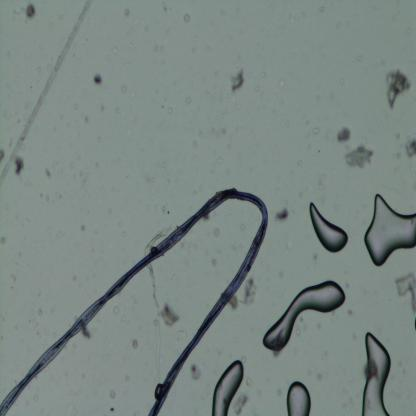Air bubble: (262, 280, 346, 354), (362, 193, 416, 268), (362, 330, 393, 416), (308, 200, 350, 254), (212, 361, 245, 416), (286, 379, 312, 416)
Background material: (0, 0, 95, 188), (395, 272, 416, 328), (382, 69, 412, 108), (346, 146, 376, 170), (160, 301, 180, 325), (341, 388, 357, 414), (274, 205, 291, 226), (231, 70, 247, 92), (404, 130, 416, 159), (244, 280, 257, 306), (336, 126, 352, 144), (294, 315, 306, 336), (214, 124, 228, 142), (14, 157, 26, 176), (188, 364, 202, 380), (388, 6, 400, 24), (82, 168, 93, 186), (25, 5, 36, 21), (108, 385, 117, 404), (312, 370, 324, 384), (212, 155, 224, 169), (272, 384, 284, 398), (40, 167, 52, 179), (12, 6, 21, 22), (210, 226, 222, 238), (120, 368, 130, 382), (231, 295, 240, 309), (208, 257, 219, 268), (66, 157, 76, 169), (190, 136, 200, 148), (310, 124, 320, 135), (154, 44, 165, 54), (94, 74, 104, 85), (126, 90, 137, 100), (278, 77, 287, 89), (120, 8, 130, 18), (355, 53, 365, 63), (130, 339, 139, 350), (183, 95, 192, 106), (160, 158, 168, 170), (184, 13, 191, 26), (119, 82, 128, 92), (34, 308, 44, 317), (111, 307, 121, 316), (1, 50, 12, 58), (163, 0, 170, 12), (336, 18, 342, 30), (35, 65, 43, 74), (114, 103, 120, 114), (254, 83, 260, 94), (190, 35, 198, 43), (346, 306, 354, 314), (296, 158, 304, 166), (72, 102, 80, 110), (164, 106, 173, 113), (328, 92, 334, 102), (404, 28, 414, 34), (245, 378, 252, 386), (0, 236, 7, 244), (319, 5, 326, 13), (113, 46, 118, 56), (77, 170, 84, 177), (260, 70, 266, 78), (191, 46, 197, 54), (46, 64, 52, 72), (0, 151, 4, 162), (201, 130, 205, 139), (340, 78, 344, 84)
Cellulose filter fibre: (145, 266, 165, 387)
Cotton: (0, 187, 270, 415)
